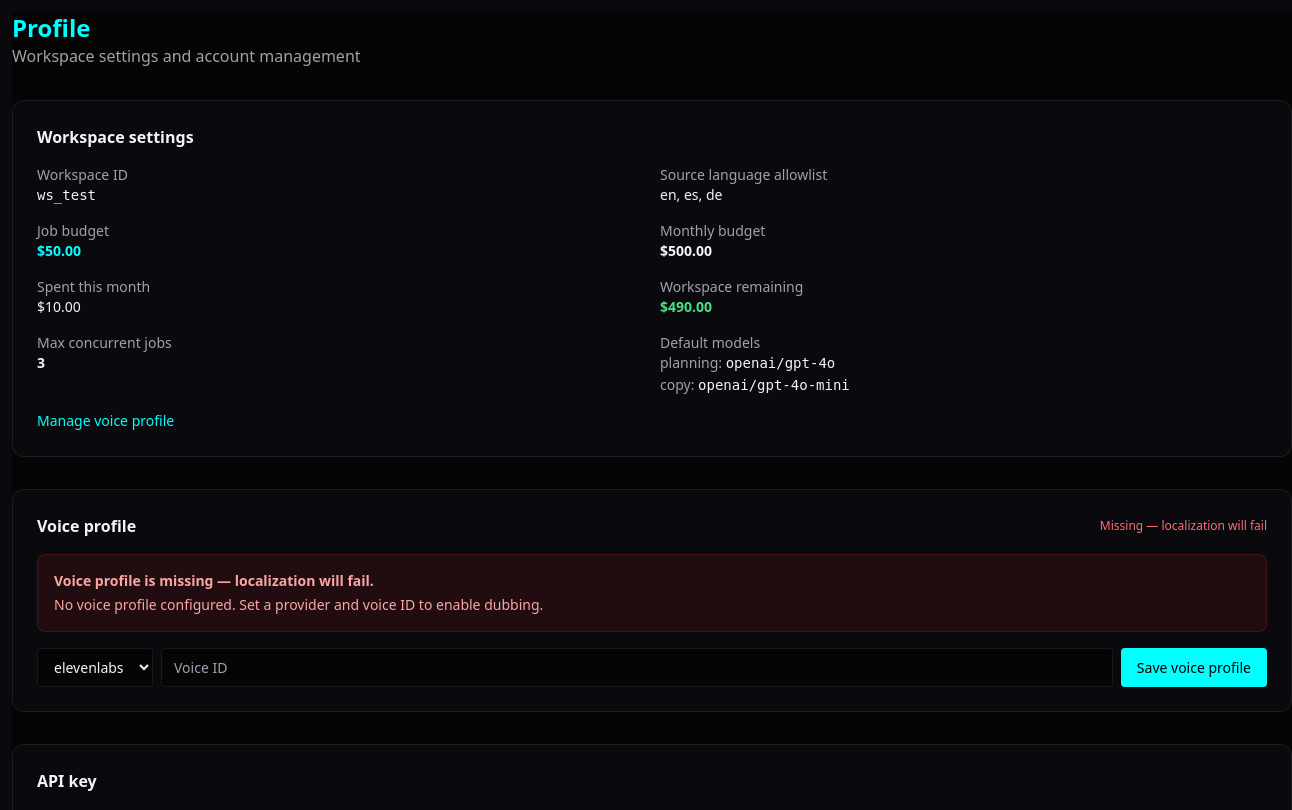
ProfilePage › saves a new voice profile through PUT /api/workspace/voice-profile
Expected: the text "No voice profile configured" is shown, [54, 595, 543, 614]
Type "voice_new" into the field labelled "Voice ID".
click(637, 668); type("voice_new")  # box [161, 648, 1113, 687]
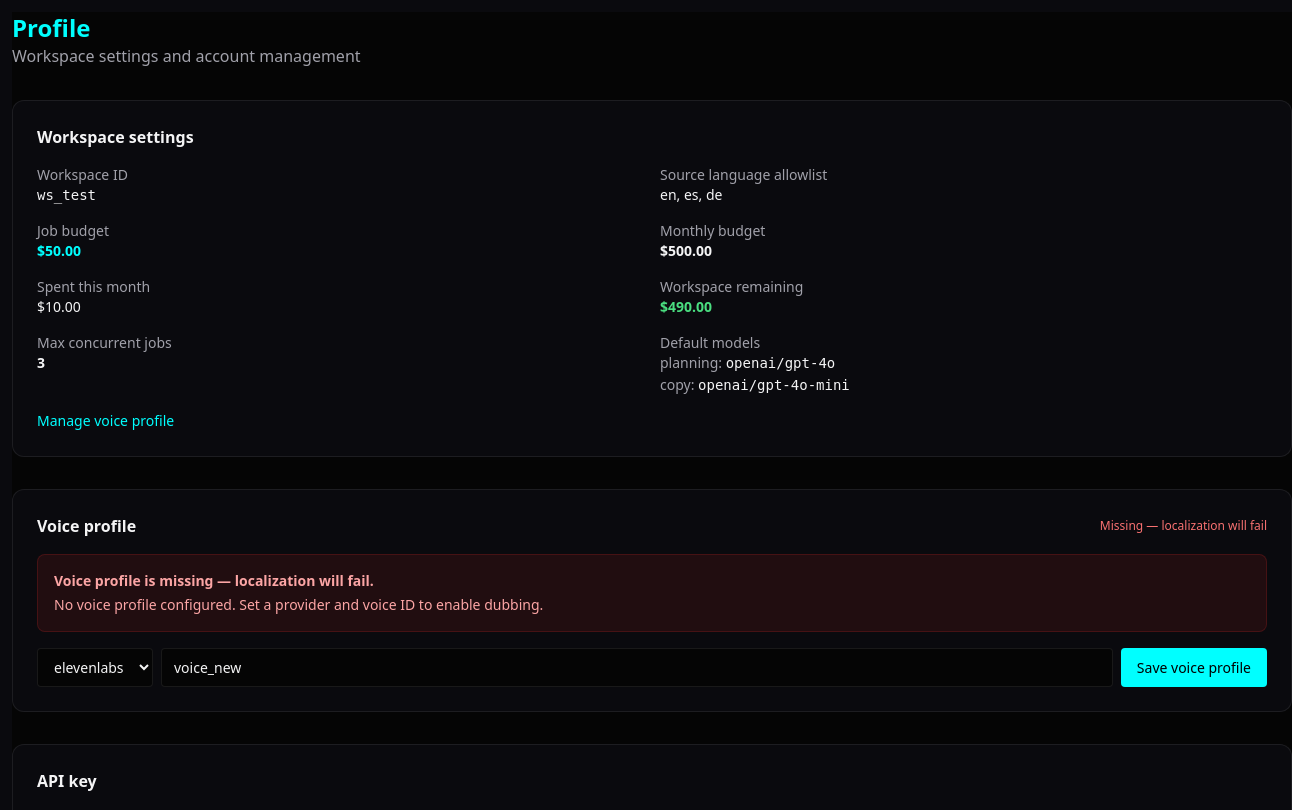
Click the button "Save voice profile".
click(1194, 668)  # box [1121, 648, 1267, 687]
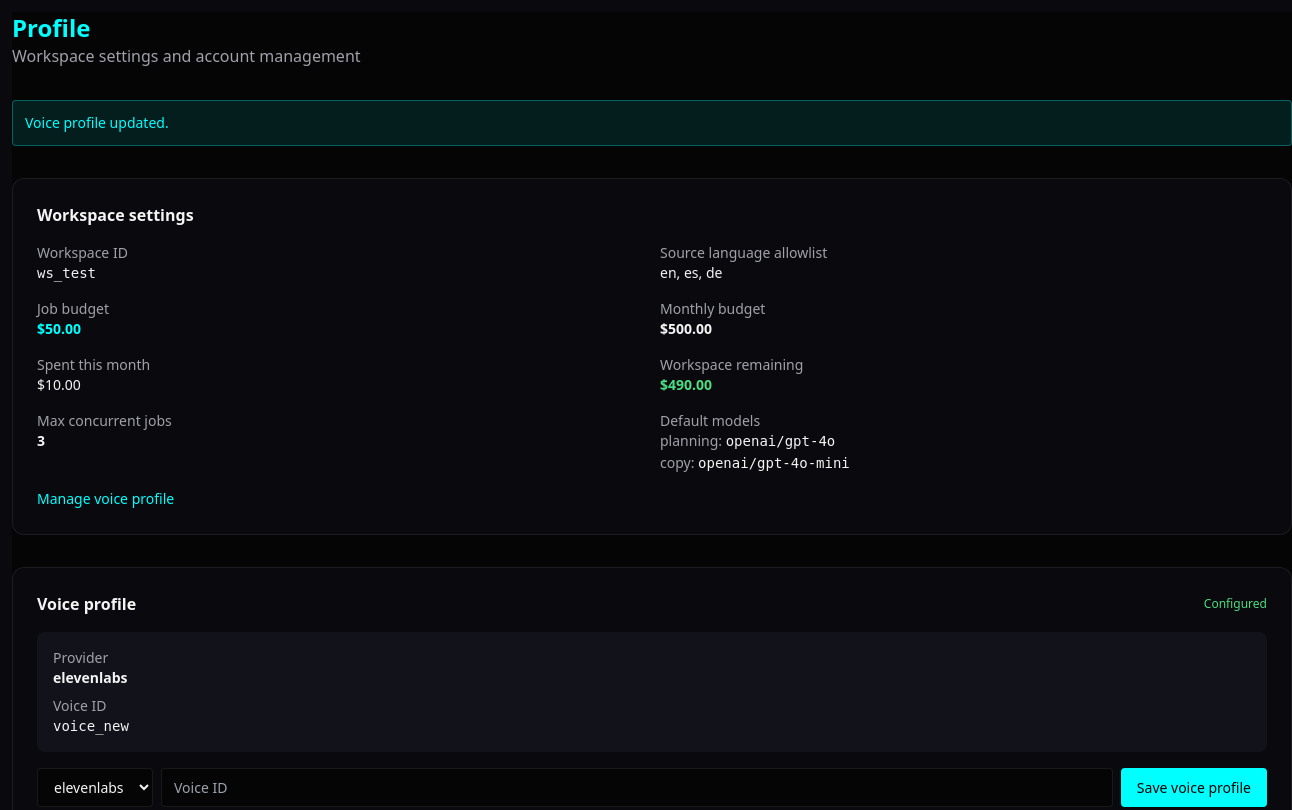
Expected: the text "voice_new" is shown, [53, 718, 129, 734]
Expected: the message reads "Voice profile updated.", [25, 113, 169, 132]
